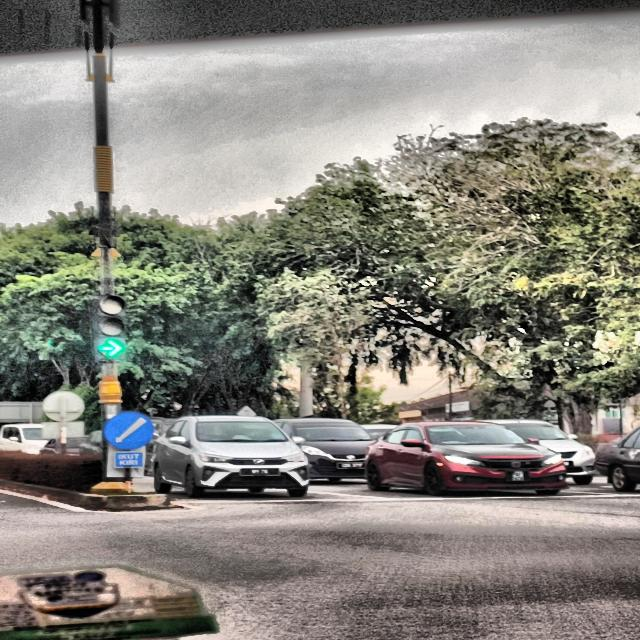green: (94, 294, 127, 359)
